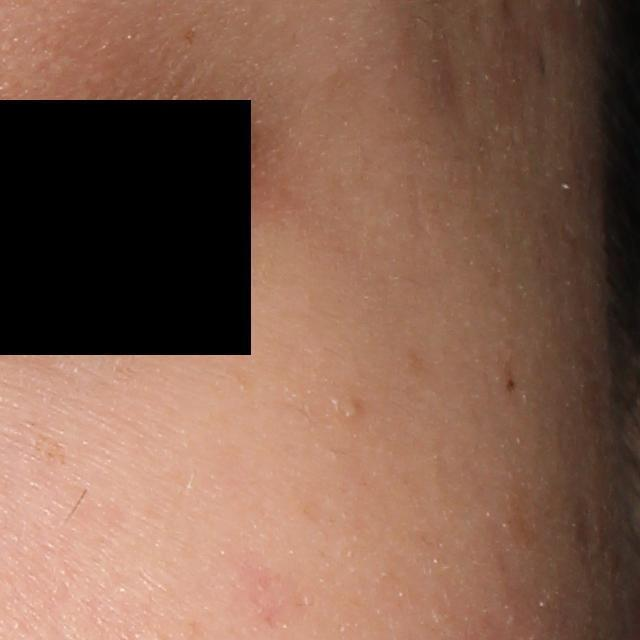comedo: (335, 395, 364, 424)
melasma: (181, 29, 199, 47)
nevus: (504, 378, 516, 395)
